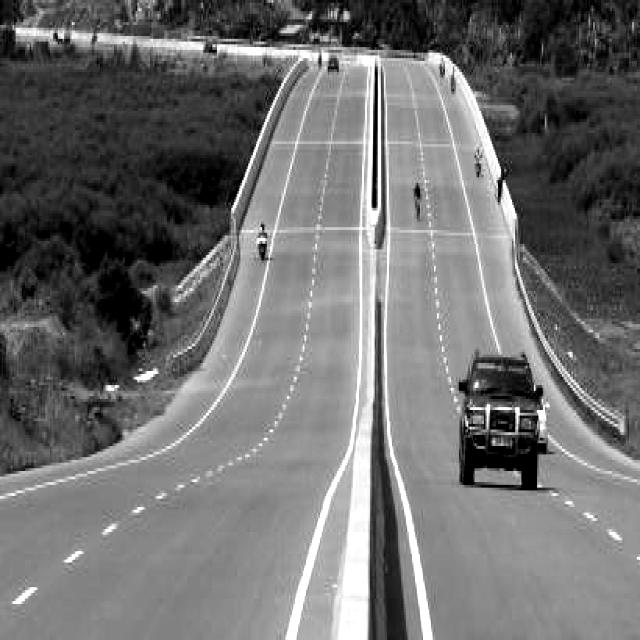cleat: (59, 149, 640, 640)
